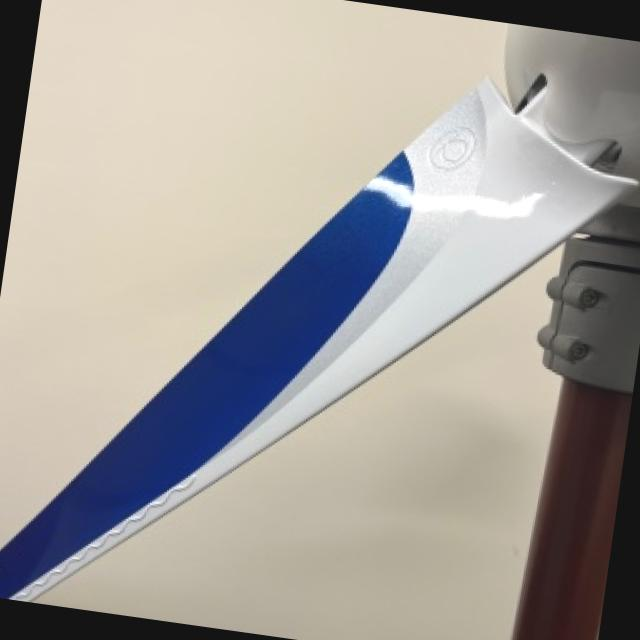healthy: (41, 249, 564, 640)
